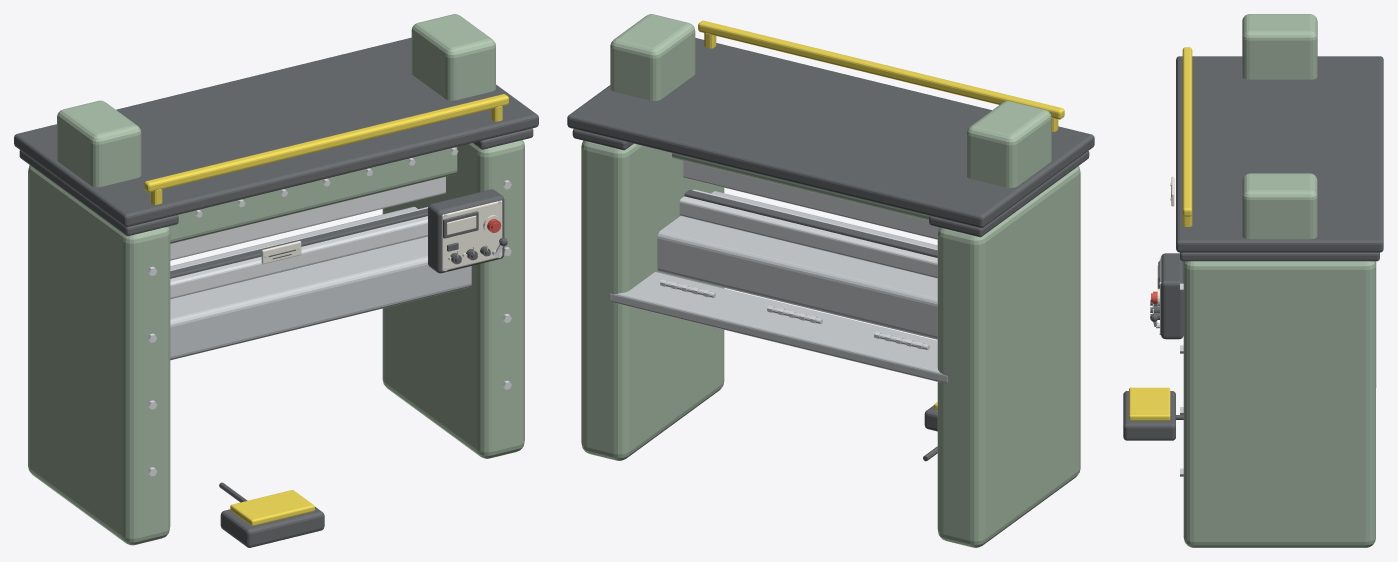
File: press-brake-for-sheet-metal.glb
3 renders of one model, left to right at view 1: azimuth 30°, elevation 25°; view 2: azimuth 150°, elevation 25°; view 3: azimuth 270°, elevation 25°, orthographic. The views are drawn at different scales.
Visible parts, largest first — view 1: machine-shop-and-factory-hall-press-brake, brake-ram/enamel, brake-ram/steel; view 2: machine-shop-and-factory-hall-press-brake, brake-ram/steel, brake-ram/enamel; view 3: machine-shop-and-factory-hall-press-brake.
Boxes of the visible parts, <box> form: machine-shop-and-factory-hall-press-brake: <box>14,14,538,547</box>; brake-ram/enamel: <box>168,147,457,243</box>; brake-ram/steel: <box>170,147,458,260</box>; machine-shop-and-factory-hall-press-brake: <box>567,14,1094,547</box>; brake-ram/steel: <box>683,161,939,239</box>; brake-ram/enamel: <box>672,153,929,220</box>; machine-shop-and-factory-hall-press-brake: <box>1123,14,1383,547</box>.
Size of the model in its own units: 2.34 by 2.1 by 1.38.
